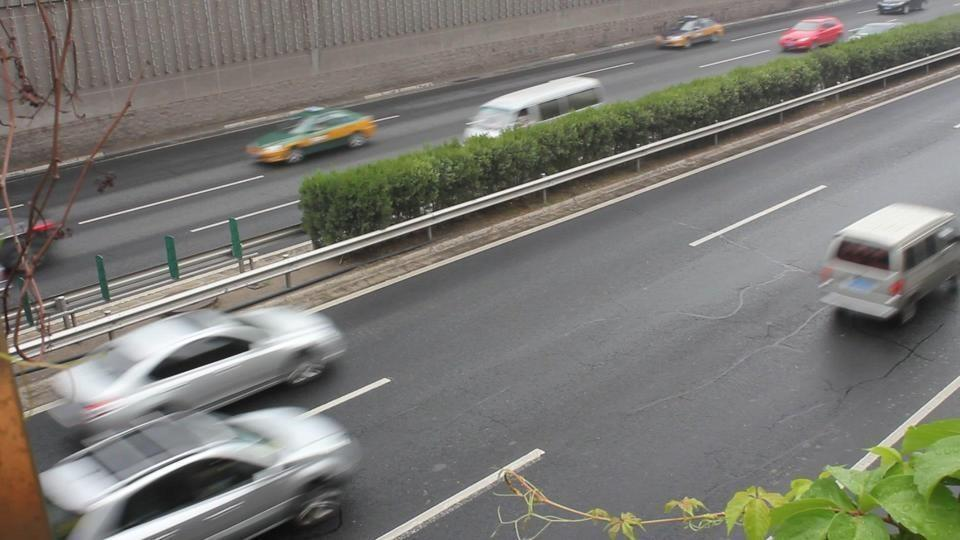car: (38, 402, 365, 539), (44, 302, 351, 445), (817, 202, 960, 328), (462, 75, 606, 138), (243, 106, 379, 166), (0, 217, 74, 274), (655, 14, 726, 50), (776, 16, 845, 52), (877, 0, 928, 15)
